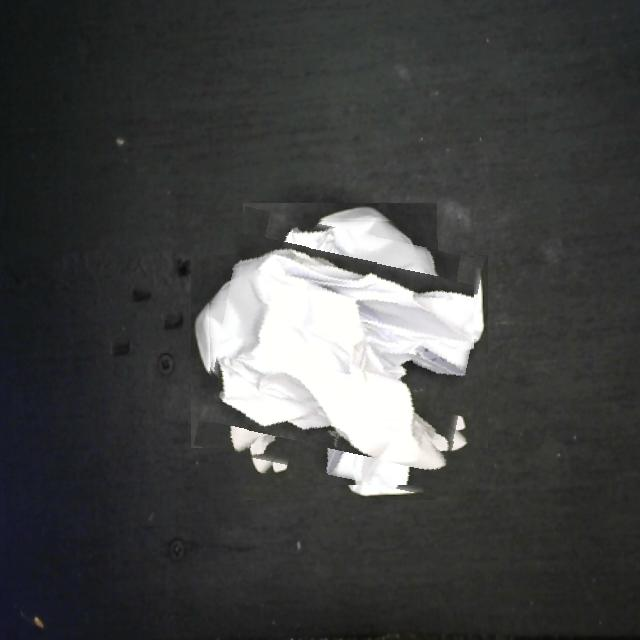biodegradable: (206, 218, 474, 485)
